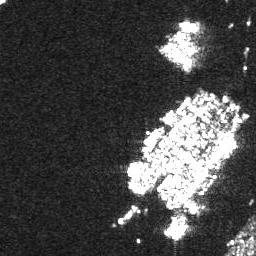ship: (141, 124, 162, 148), (116, 203, 138, 225), (169, 222, 190, 240), (174, 96, 193, 113), (158, 108, 174, 123)
